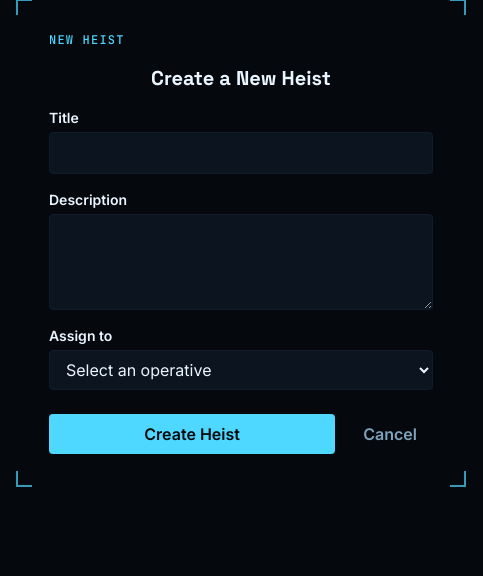
it: HeistForm › blocks submission with inline errors when required fields are missing
Expected: the field labelled "Title" is shown, [49,132,433,174]
Click the button "Create Heist": (192, 434) [49,414,335,454]
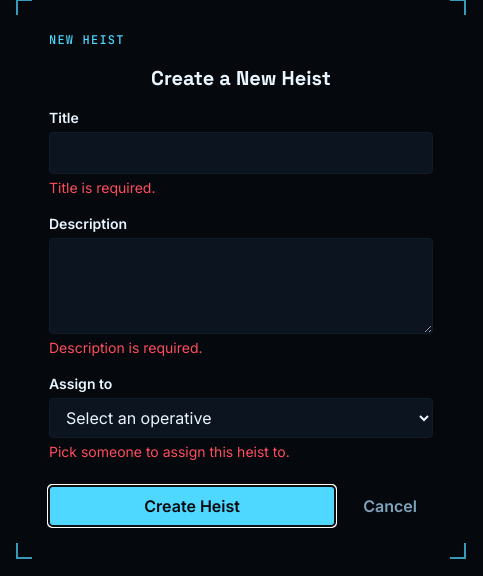
Expected: the text "Title is required." is shown, [49,179,156,196]
Expected: the text "Description is required." is shown, [49,339,203,356]
Expected: the text "Pick someone to assign this heist to." is shown, [49,443,290,460]
